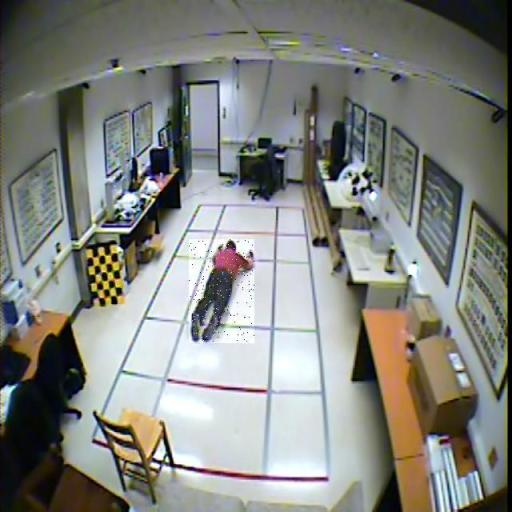Fall: (189, 239, 254, 343)
